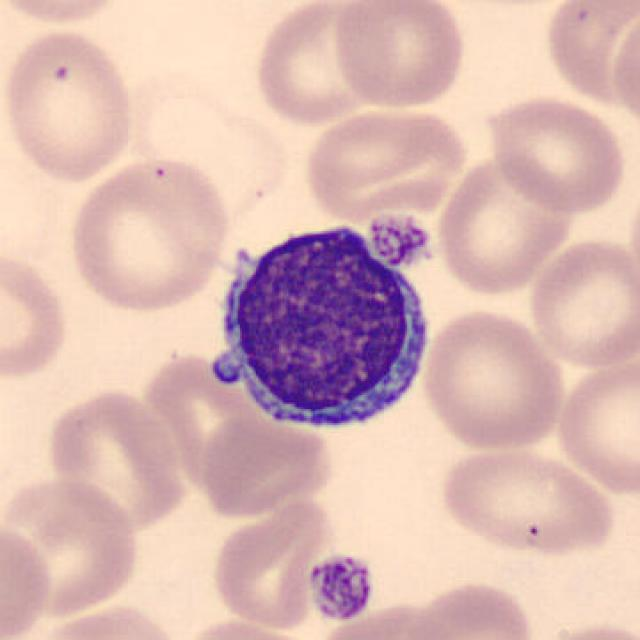Lymphocyte: (195, 212, 438, 440)
Platelets: (304, 550, 377, 624), (366, 210, 434, 268)
RBC: (62, 154, 235, 316), (130, 74, 295, 222), (0, 24, 140, 185), (434, 441, 622, 559), (418, 305, 567, 453), (44, 384, 190, 532), (2, 472, 142, 622), (434, 152, 576, 298), (300, 102, 473, 220), (208, 492, 340, 631), (482, 92, 631, 215), (250, 0, 386, 129), (194, 407, 336, 520), (524, 235, 638, 372), (329, 0, 469, 111), (551, 353, 638, 497), (540, 0, 640, 113), (0, 246, 73, 382), (405, 576, 540, 640), (0, 518, 55, 640), (25, 601, 187, 640), (309, 599, 459, 640), (608, 9, 640, 136), (0, 0, 128, 30), (174, 615, 324, 640), (534, 619, 638, 640)
